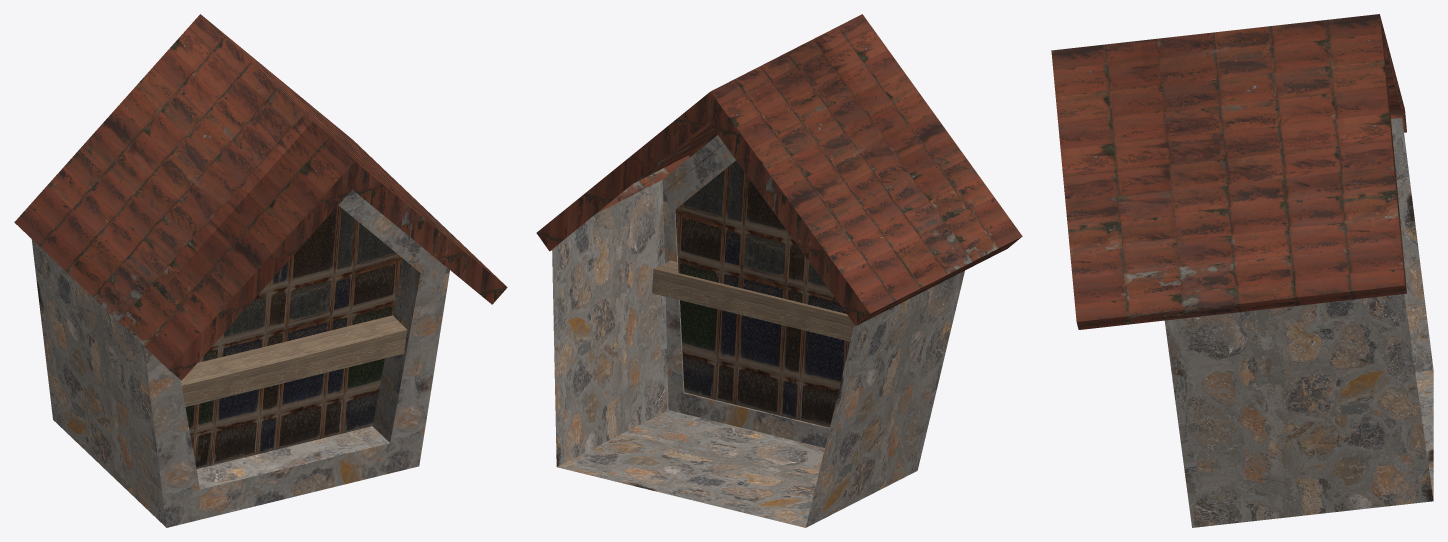
File: OU_AR_Balcony_House_04_D.fbx
3 views of the same model, side by side, from view 1: azimuth 30°, elevation 25°; view 2: azimuth 150°, elevation 25°; view 3: azimuth 270°, elevation 25° (orthographic). The views are drawn at different scales.
Visible parts, largest first — view 1: OU_AR_Balcony_House_04_D; view 2: OU_AR_Balcony_House_04_D; view 3: OU_AR_Balcony_House_04_D.
Part boxes in pixels (bbox=[...]): OU_AR_Balcony_House_04_D: bbox=[14, 14, 507, 527]; OU_AR_Balcony_House_04_D: bbox=[536, 14, 1022, 527]; OU_AR_Balcony_House_04_D: bbox=[1051, 14, 1433, 527].
Bounding box in the file's own units: 182 × 215 × 167.
4 materials, 4 textured.
